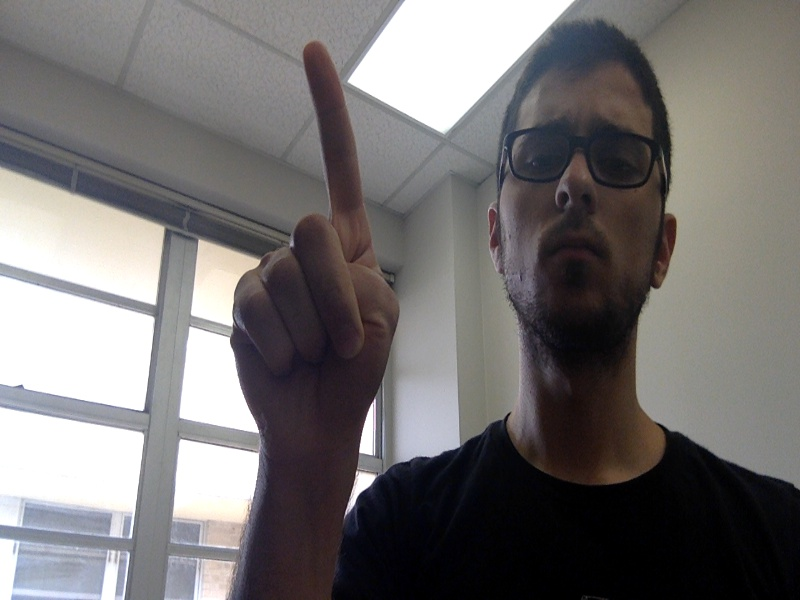1-hand: (233, 41, 398, 456)
